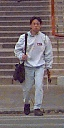person: (17, 15, 49, 116)
